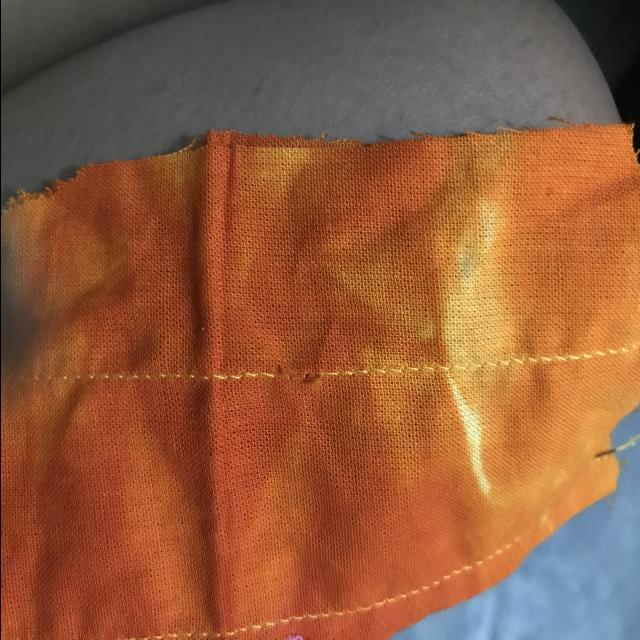Broken: (258, 340, 352, 390)
